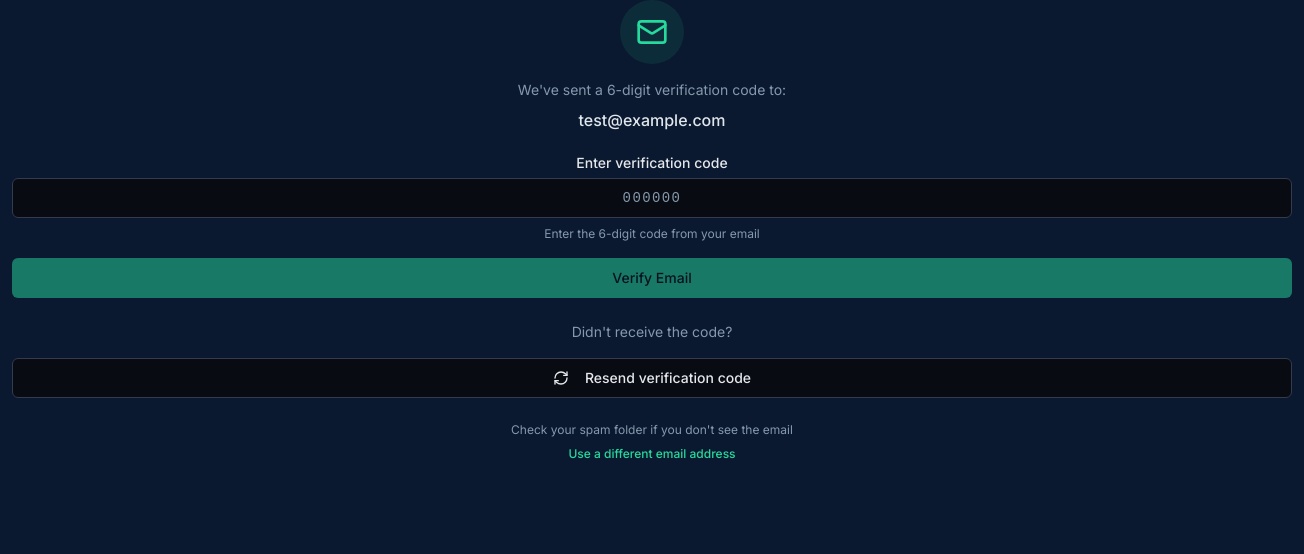
Scenario: EmailVerificationForm › Email Verification Process › should handle incomplete verification
Type "123456" into the field labelled "Enter verification code". click: (652,198)
box: [12, 178, 1292, 218]
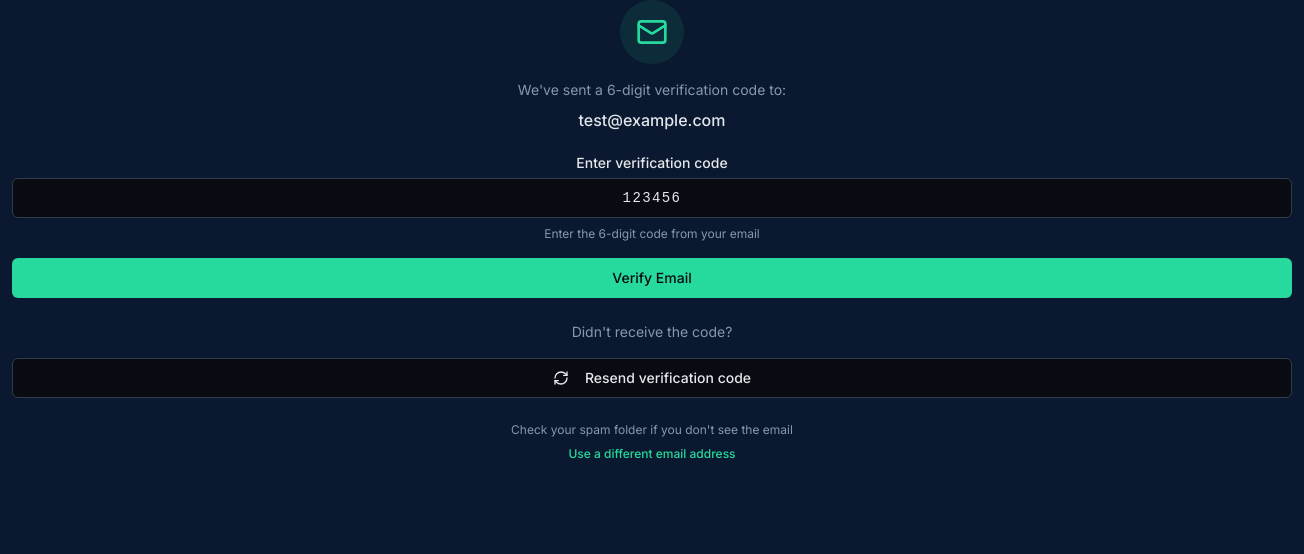
Click the button "Verify Email". click: (652,278)
box: [12, 258, 1292, 298]
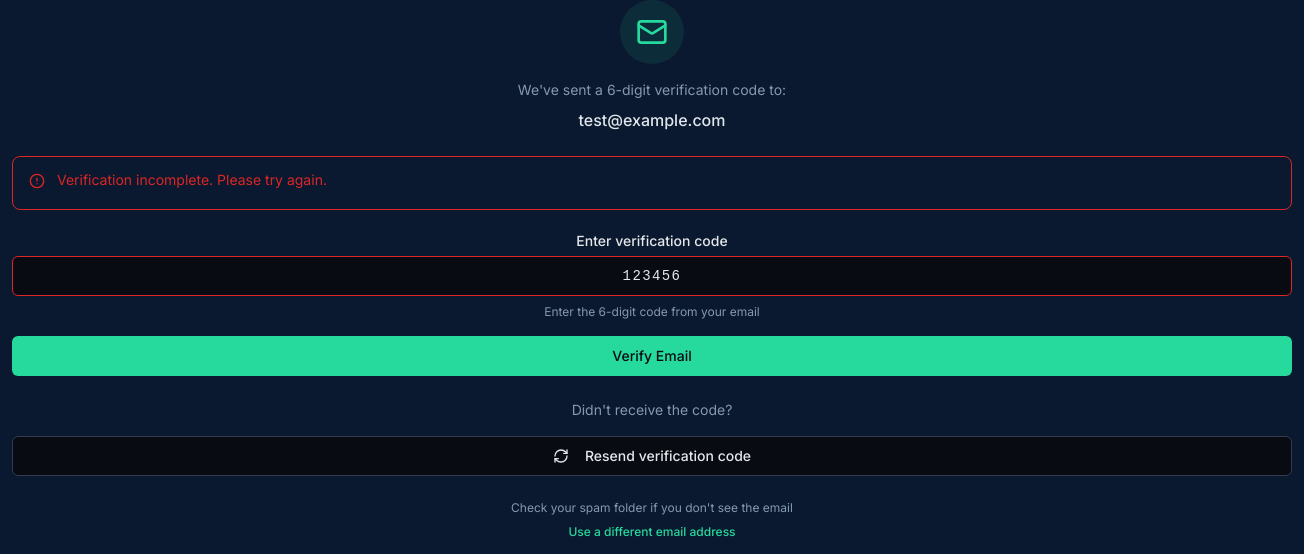
Expected: the button "Verify Email" is shown, [12, 336, 1292, 376]
Expected: the button "Verify Email" is enabled, [12, 336, 1292, 376]
Expected: the text "Verification incomplete. Please try again." is shown, [57, 171, 327, 188]
